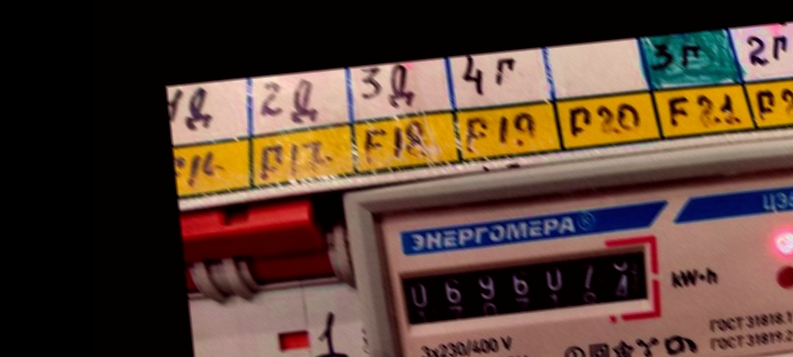0: (544, 261, 565, 293), (410, 279, 430, 309)
4: (612, 270, 632, 300)
6: (511, 266, 531, 296), (444, 275, 464, 304)
7: (578, 259, 600, 292)
9: (477, 271, 497, 301)
screen: (386, 231, 670, 343)
